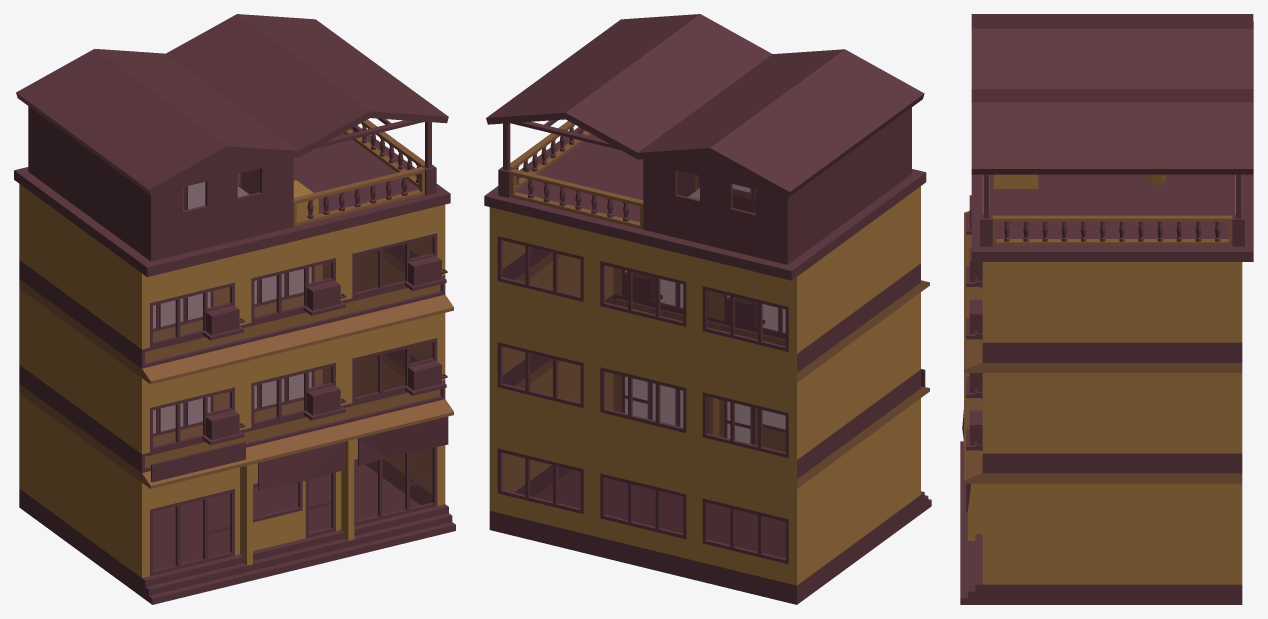
Rendered from building-street-india.fbx.
The picture shows the model from 3 angles, left to right: view 1: azimuth 30°, elevation 25°; view 2: azimuth 150°, elevation 25°; view 3: azimuth 270°, elevation 25°; orthographic projection. The views are drawn at different scales.
Visible parts, largest first — view 1: building-street-india; view 2: building-street-india; view 3: building-street-india.
Part boxes in pixels (box(x1,y1,x2,y2)): building-street-india: box(14, 14, 455, 604); building-street-india: box(484, 14, 931, 604); building-street-india: box(960, 14, 1253, 604).
Bounding box in the file's own units: 10 × 13.71 × 7.9.
